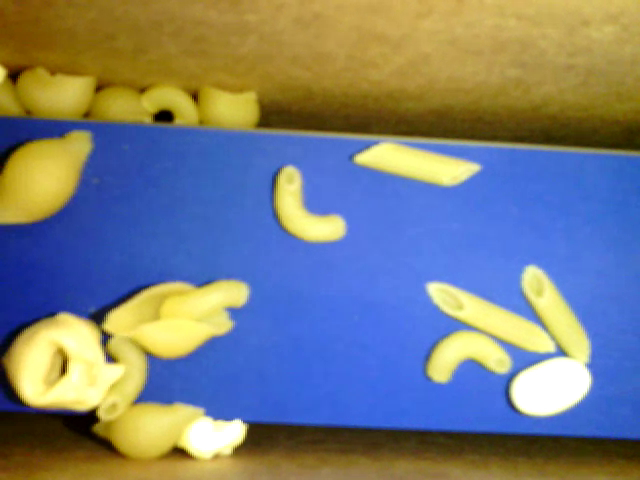elbow: (273, 163, 349, 241), (425, 326, 515, 384), (96, 336, 150, 419), (162, 278, 248, 319), (140, 84, 201, 127)
penne: (427, 282, 558, 359), (350, 136, 481, 191), (520, 266, 592, 365)
shell: (100, 279, 233, 359), (1, 128, 96, 226), (89, 399, 203, 460), (13, 61, 98, 119), (192, 86, 261, 127), (89, 87, 157, 125)
tortellini: (3, 309, 127, 410)
